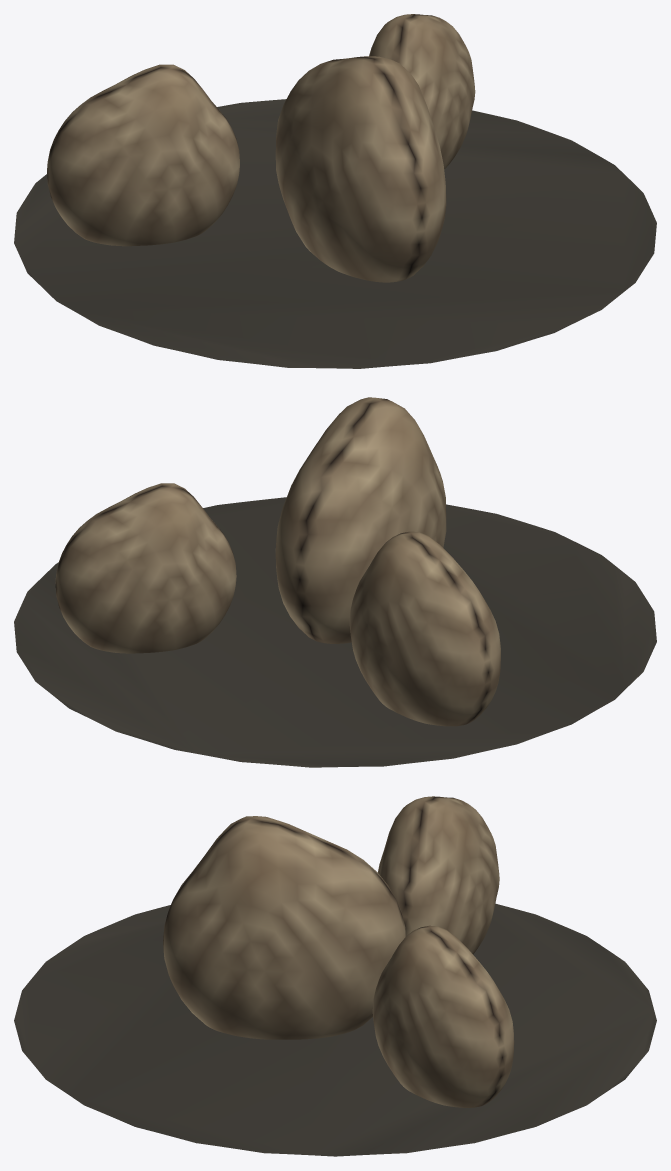
Rendered from CardiolaInterrupta.fbx.
The picture shows the model from 3 angles, top to bottom: view 1: azimuth 30°, elevation 25°; view 2: azimuth 150°, elevation 25°; view 3: azimuth 270°, elevation 25°; orthographic projection.
Visible parts, largest first — view 1: CardiolaInterrupta; view 2: CardiolaInterrupta; view 3: CardiolaInterrupta.
Boxes of the visible parts, x1,y1,x2,y2 form: CardiolaInterrupta: (14, 14, 656, 368); CardiolaInterrupta: (14, 397, 656, 767); CardiolaInterrupta: (14, 796, 656, 1156).
Bounding box in the file's own units: 1.9 × 0.7382 × 1.9.
